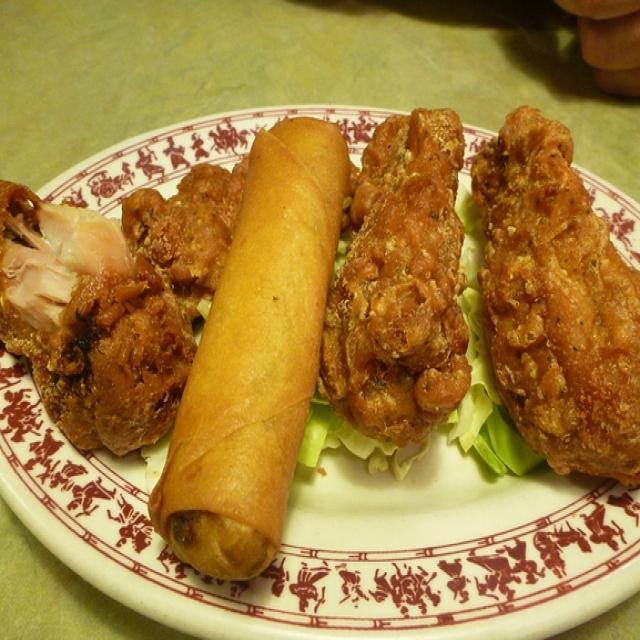Deep fried chicken wing: (340, 119, 640, 471), (1, 130, 199, 440)
